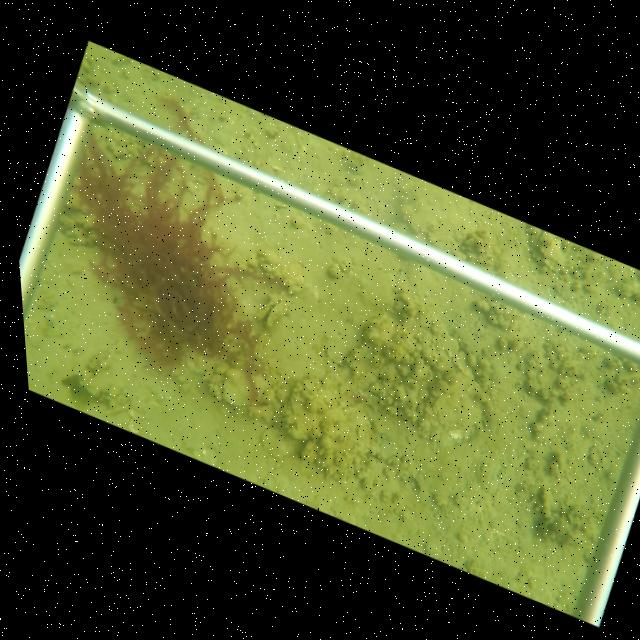Oyster-Indeterminate: (218, 362, 281, 409)
Oyster-Open: (254, 293, 291, 329)
